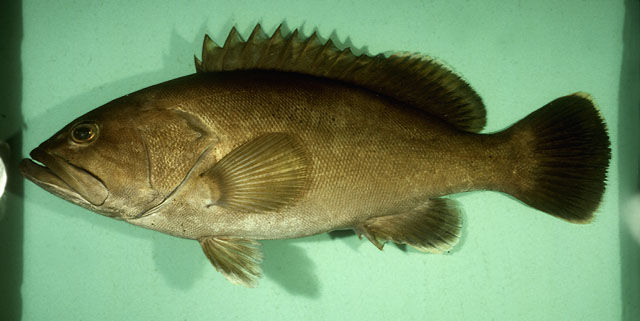fish: (17, 22, 612, 289)
